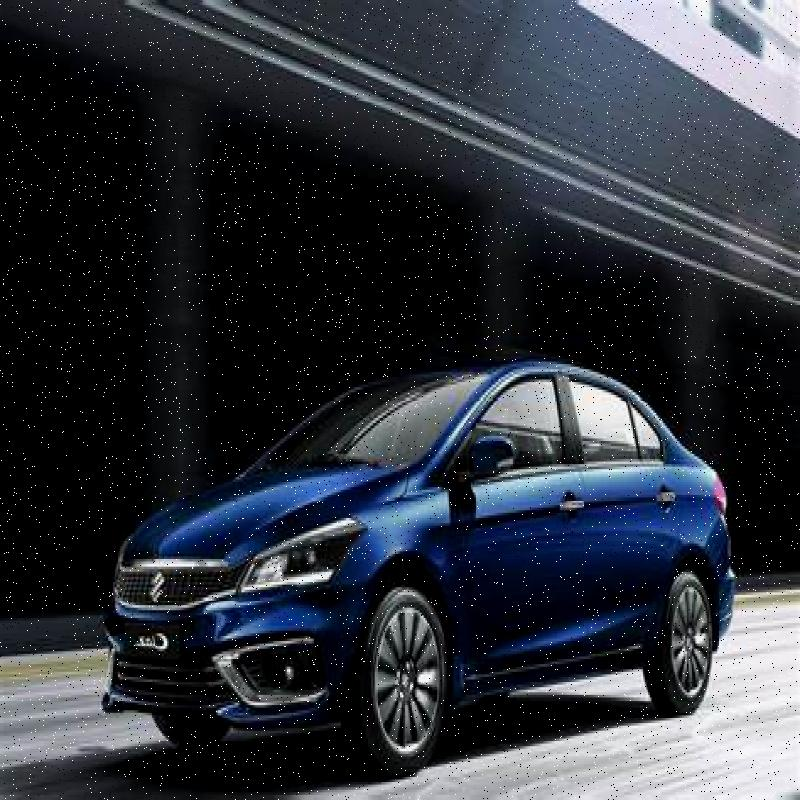car: (83, 320, 740, 800)
